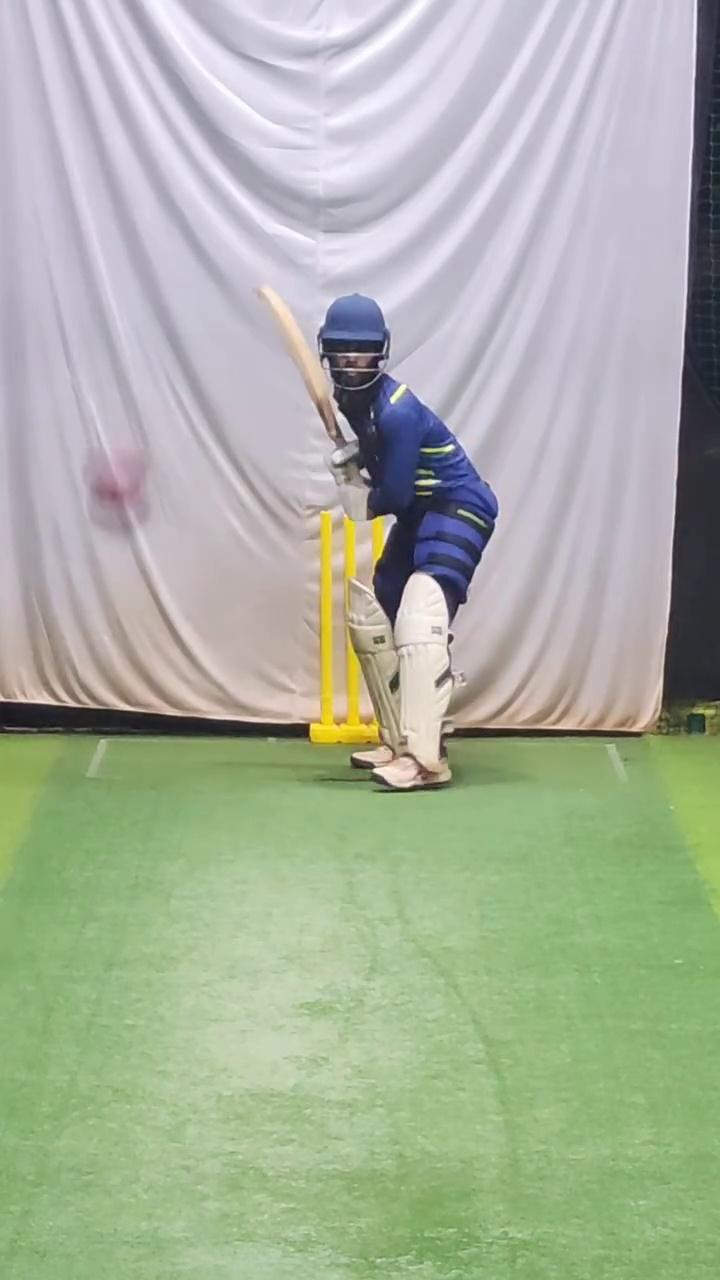bat: (252, 275, 344, 447)
